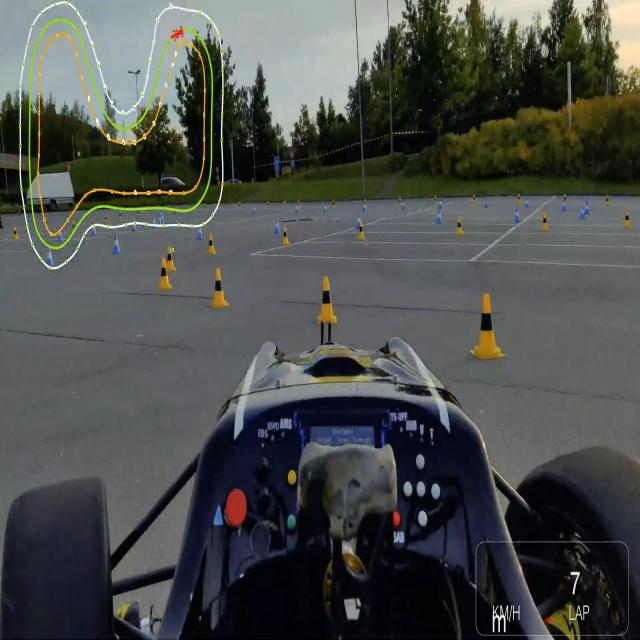yellow_cone: (474, 292, 502, 368), (312, 276, 340, 329), (207, 266, 233, 318), (154, 251, 175, 295), (280, 224, 296, 252), (355, 214, 369, 241), (537, 211, 550, 231), (454, 210, 462, 236), (209, 228, 216, 254)
